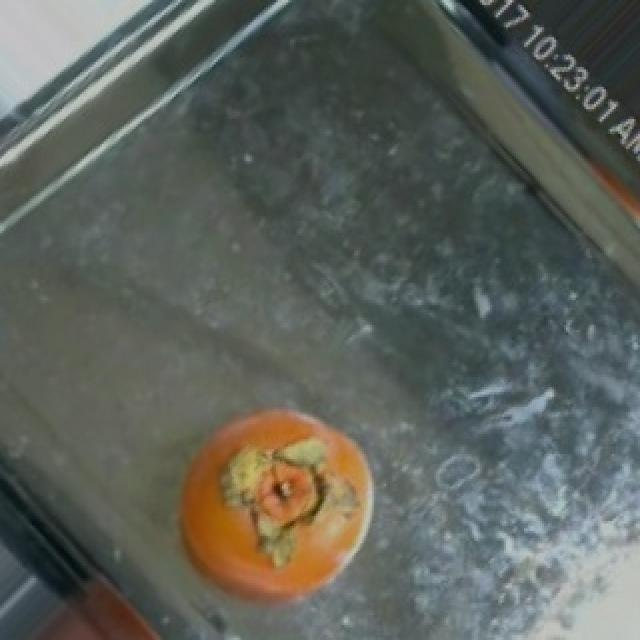Fruit: (162, 390, 396, 638), (484, 513, 640, 640), (0, 590, 194, 640)
